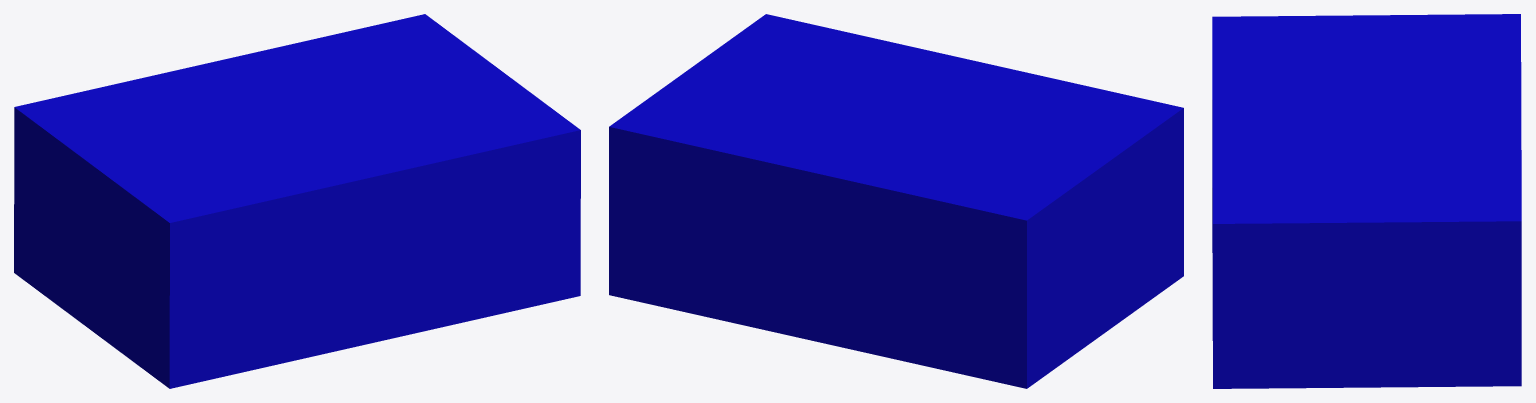
The picture shows the model from 3 angles, left to right: view 1: azimuth 30°, elevation 25°; view 2: azimuth 150°, elevation 25°; view 3: azimuth 270°, elevation 25°; orthographic projection. The views are drawn at different scales.
Parts seen in each view (by area): view 1: Cube; view 2: Cube; view 3: Cube.
Boxes of the visible parts, bbox=[...] form: Cube: bbox=[14, 14, 580, 388]; Cube: bbox=[609, 14, 1183, 388]; Cube: bbox=[1212, 14, 1521, 388].
Bounding box in the file's own units: 11.79 × 4.81 × 7.71.
